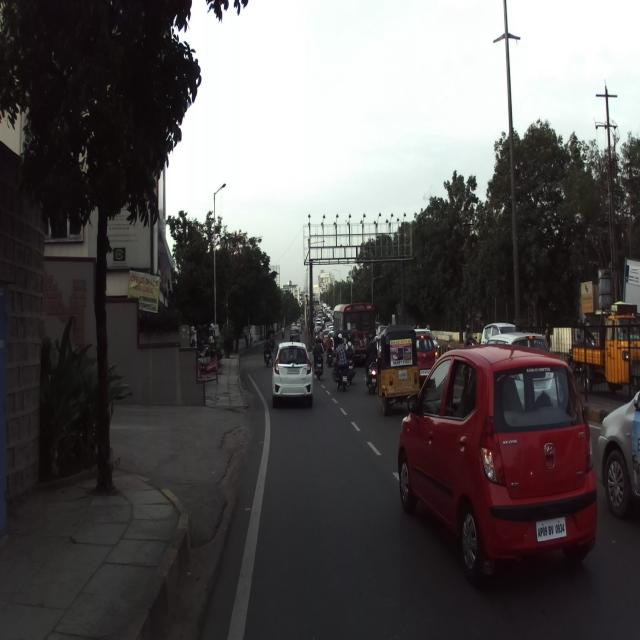car: (396, 342, 599, 582), (271, 339, 314, 408)
